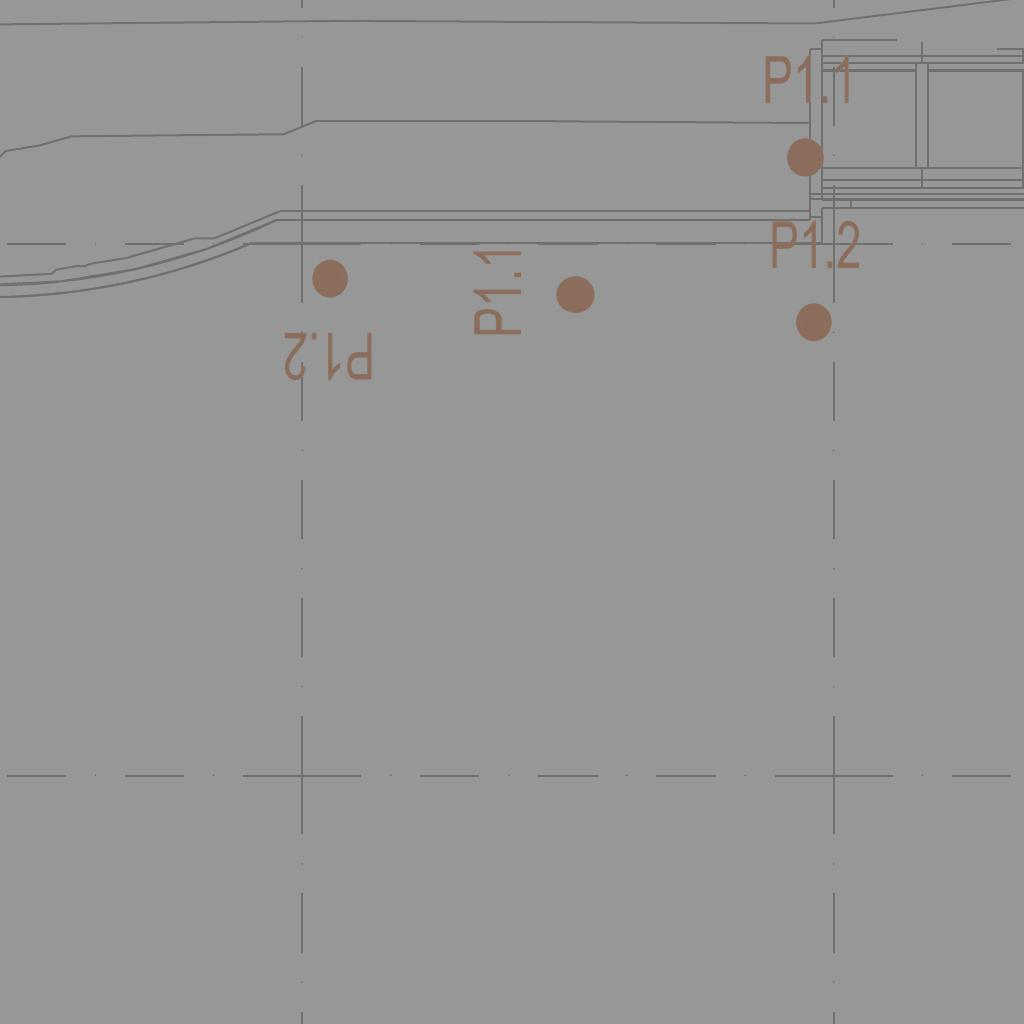Downlight_LED_Einbauleuchten_Flur: (470, 245, 598, 338), (282, 256, 375, 384), (762, 52, 855, 180), (769, 217, 862, 345)
